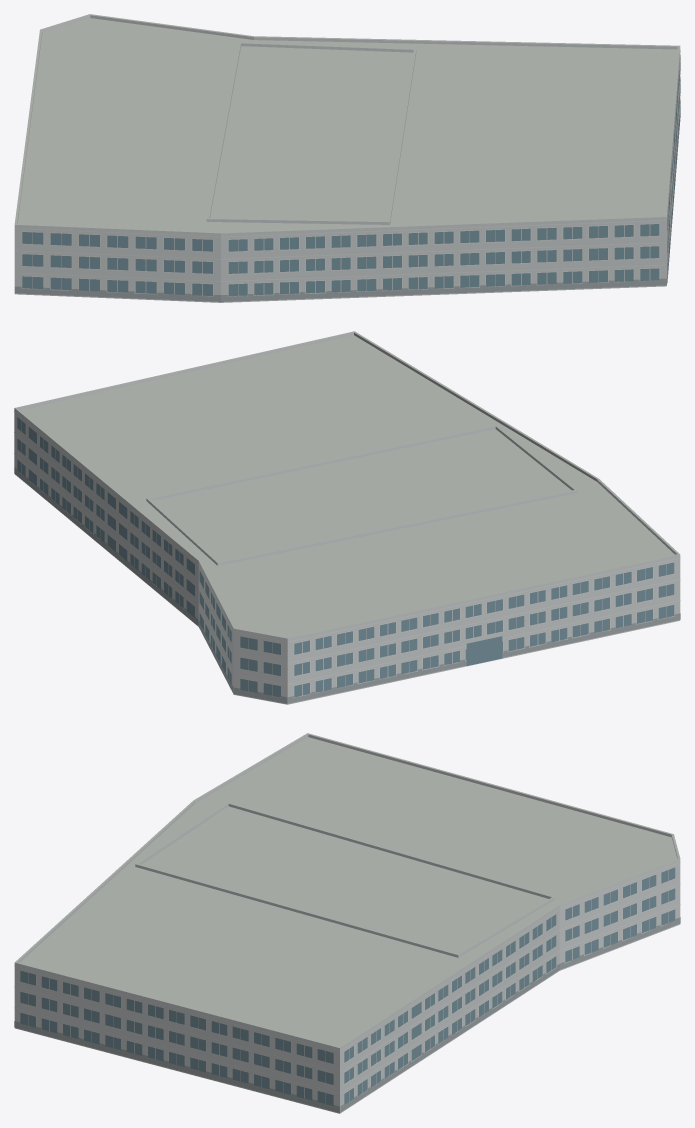
The model's file is public-7efd8272-e09b-4e55-ac27-b438257b45af.glb.
3 views of the same model, one above another, from view 1: azimuth 30°, elevation 25°; view 2: azimuth 150°, elevation 25°; view 3: azimuth 270°, elevation 25° (orthographic). The views are drawn at different scales.
Visible parts, largest first — view 1: public-7efd8272-e09b-4e55-ac27-b438257b45af; view 2: public-7efd8272-e09b-4e55-ac27-b438257b45af; view 3: public-7efd8272-e09b-4e55-ac27-b438257b45af.
Boxes of the visible parts, x1,y1,x2,y2 form: public-7efd8272-e09b-4e55-ac27-b438257b45af: [14, 14, 680, 302]; public-7efd8272-e09b-4e55-ac27-b438257b45af: [14, 331, 680, 704]; public-7efd8272-e09b-4e55-ac27-b438257b45af: [14, 733, 680, 1113].
Bounding box in the file's own units: 94.2 × 9.15 × 84.16.
